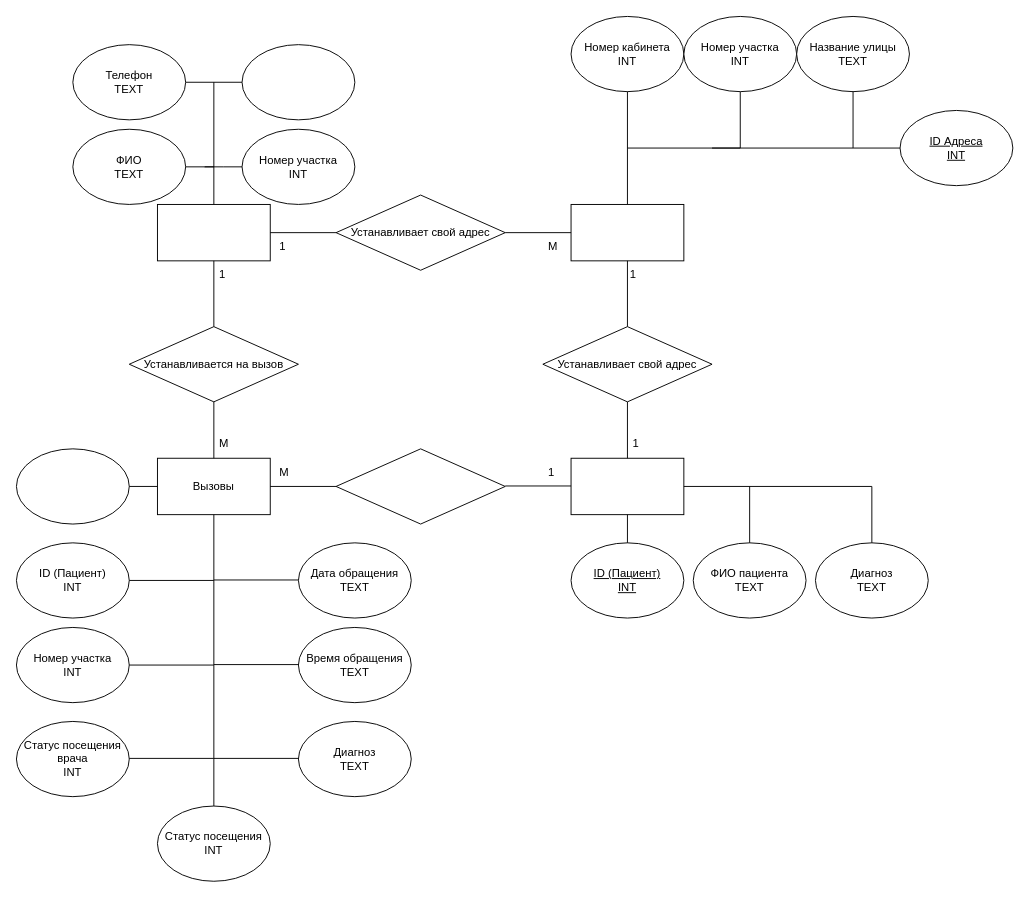
This 1029x898 diagram has some shape labels left out. The box of each missing label's shape, as (x1, y1, x2, y2) in pixels:
ID (Вызов) INT: (16, 448, 129, 524)
ID (Терапевт) INT: (241, 44, 355, 120)
Адрес: (570, 204, 684, 261)
Делает вызов: (335, 448, 505, 524)
Пациент: (570, 457, 684, 515)
Терапевт: (157, 204, 270, 261)
